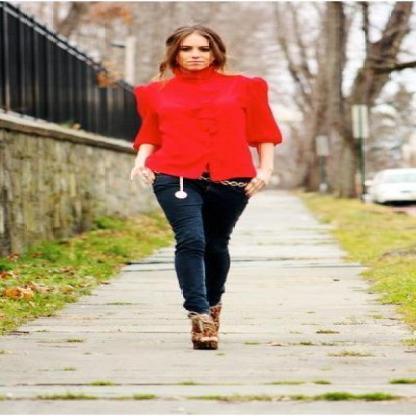pants: (152, 172, 252, 312)
shirt: (134, 66, 281, 186)
shoe: (184, 300, 225, 350)
